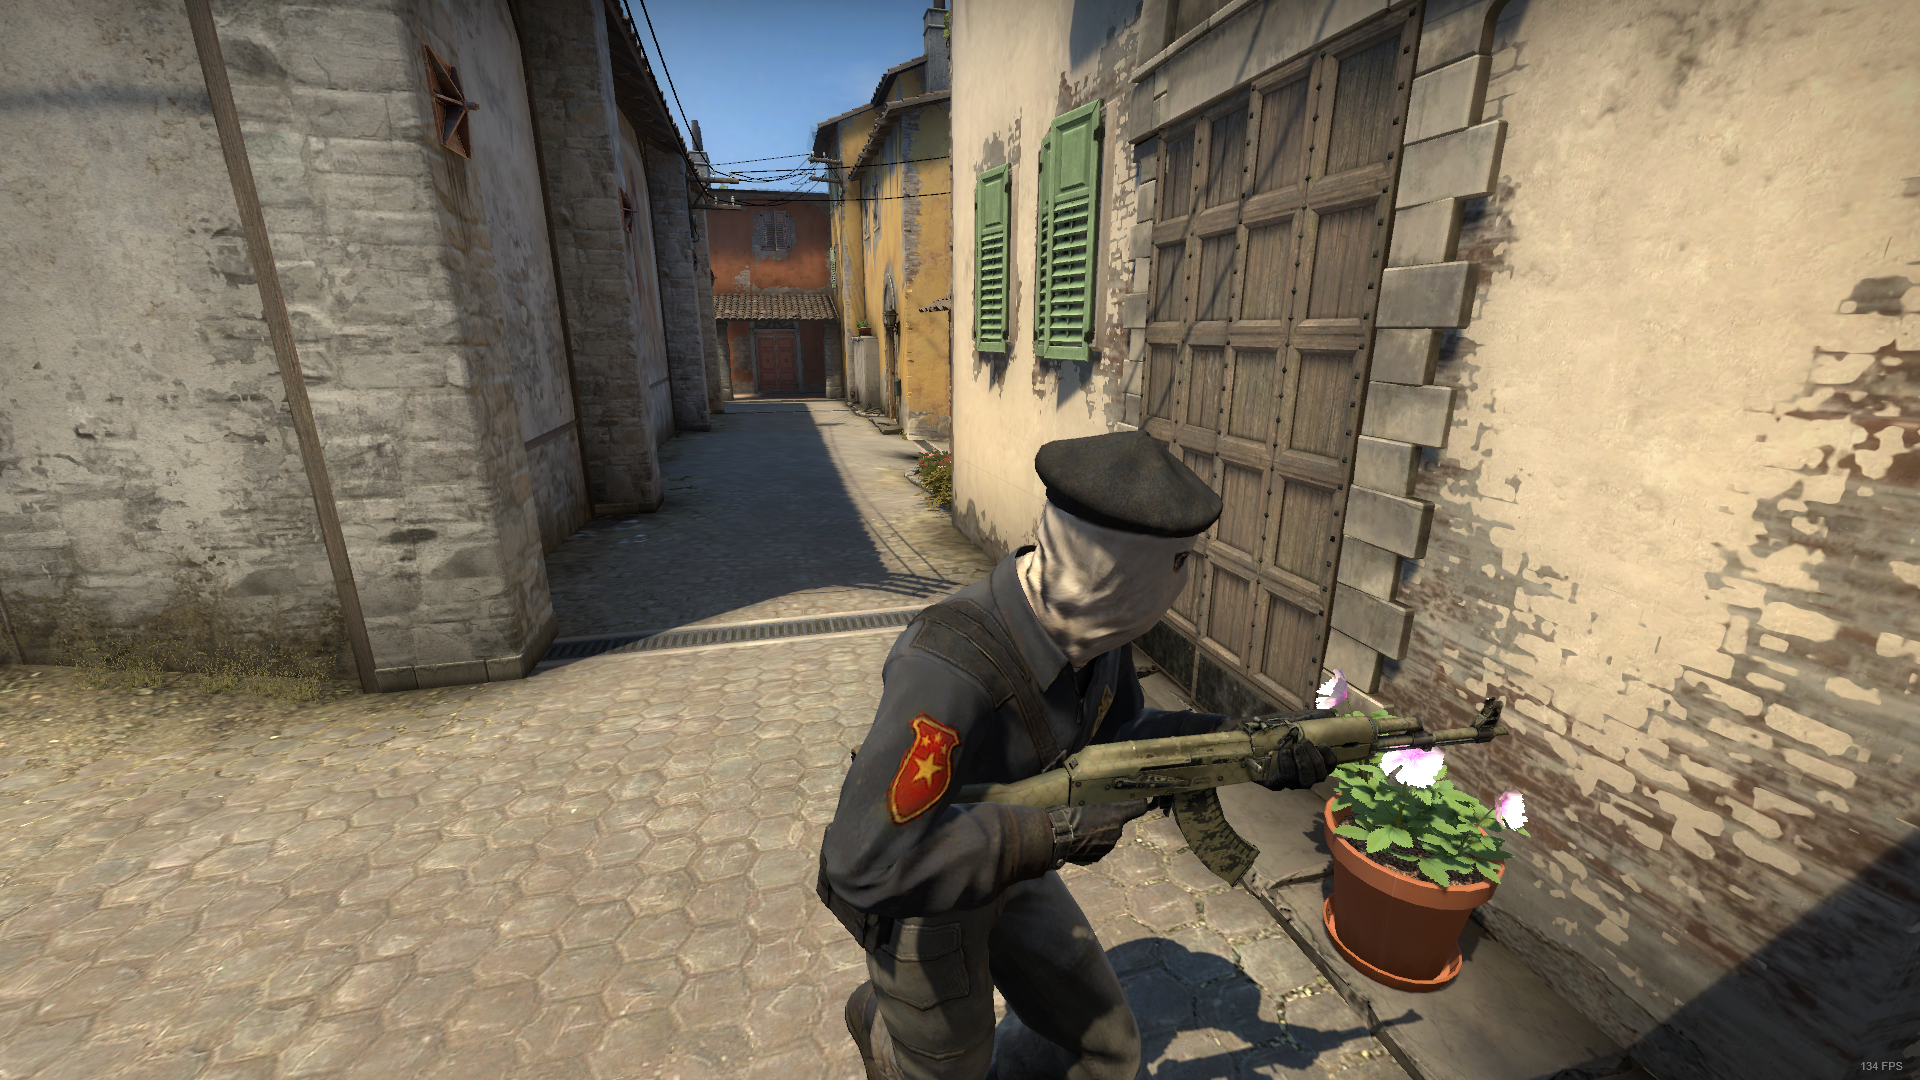t: (802, 423, 1340, 1080)
